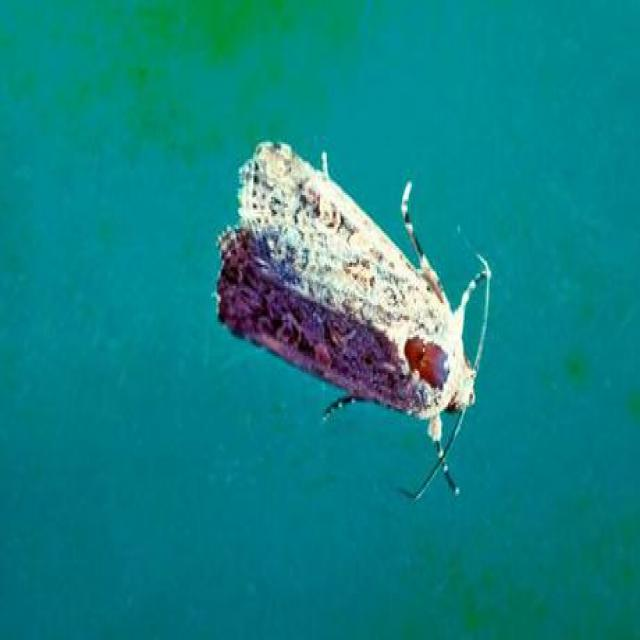BeetArmyWorm-Adult-: (194, 110, 502, 473)
